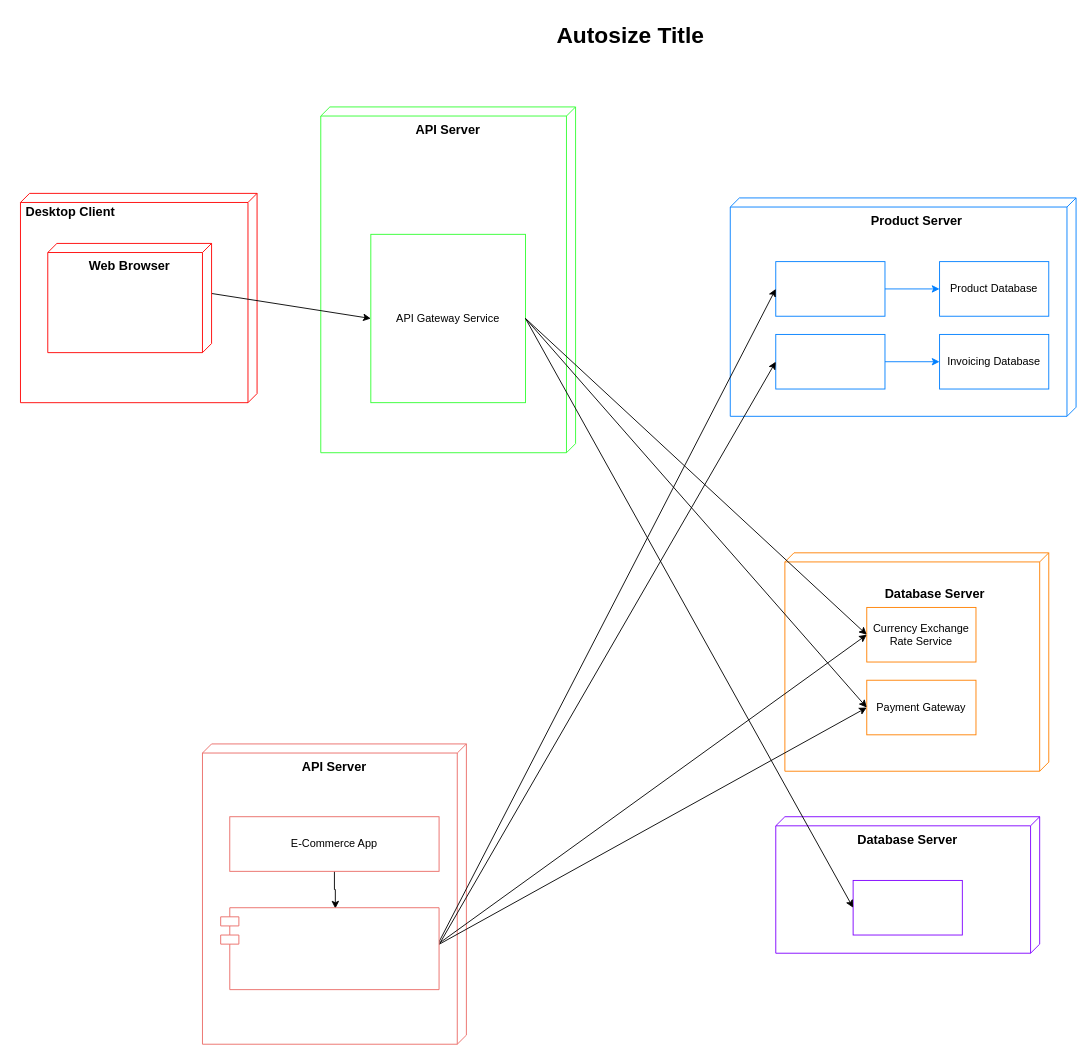
The diagram is 1092 pixels wide and 1060 high, and some of its shapes have lost their labels. The shapes that lost their labels are listed below. From the top down, each one's box as (x1, y1, x2, y2) in pixels, then its label:
(775, 261, 885, 316): Product Catalog
(775, 334, 885, 389): Invoicing Service
(852, 880, 962, 935): Shipping Service
(220, 907, 439, 990): Mobile API Gateway Module
